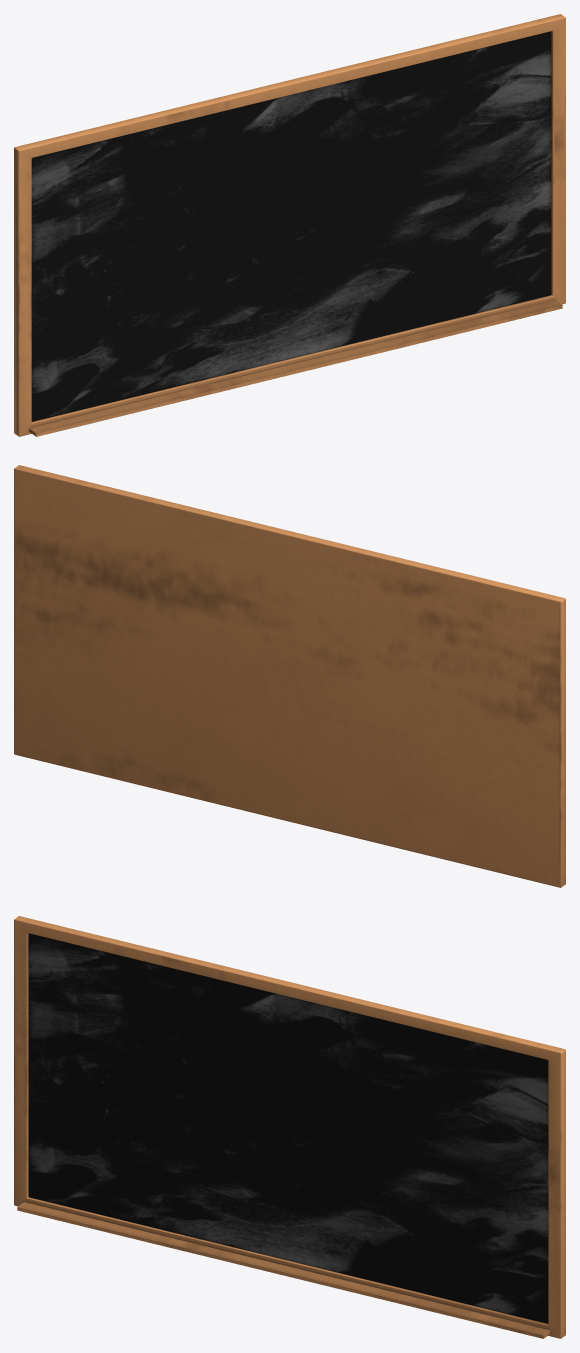
The model's file is Broken_Blackboard.fbx.
3 views of the same model, one above another, from view 1: azimuth 30°, elevation 25°; view 2: azimuth 150°, elevation 25°; view 3: azimuth 330°, elevation 25° (orthographic).
Parts seen in each view (by area): view 1: Blackboard_Broken, Blackboard_Broken.001, Blackboard_Broken.002, Blackboard_Broken.003, Blackboard_Broken.008, Blackboard_Broken.017, Blackboard_Broken.010, Blackboard_Broken.020, Blackboard_Broken.004, Blackboard_Broken.005, Blackboard_Broken.014, Blackboard_Broken.015 (+9 smaller); view 2: Blackboard_Broken; view 3: Blackboard_Broken, Blackboard_Broken.001, Blackboard_Broken.002, Blackboard_Broken.003, Blackboard_Broken.008, Blackboard_Broken.017, Blackboard_Broken.010, Blackboard_Broken.020, Blackboard_Broken.004, Blackboard_Broken.005, Blackboard_Broken.014, Blackboard_Broken.015 (+9 smaller).
Part boxes in pixels (bbox=[...]): Blackboard_Broken: bbox=[14, 14, 565, 436]; Blackboard_Broken.001: bbox=[297, 131, 458, 302]; Blackboard_Broken.002: bbox=[31, 174, 178, 367]; Blackboard_Broken.003: bbox=[159, 173, 316, 333]; Blackboard_Broken.008: bbox=[31, 320, 161, 421]; Blackboard_Broken.017: bbox=[457, 54, 551, 175]; Blackboard_Broken.010: bbox=[117, 174, 237, 298]; Blackboard_Broken.020: bbox=[114, 275, 243, 401]; Blackboard_Broken.004: bbox=[304, 234, 435, 355]; Blackboard_Broken.005: bbox=[436, 31, 551, 138]; Blackboard_Broken.014: bbox=[300, 82, 411, 237]; Blackboard_Broken.015: bbox=[343, 52, 465, 134]; Blackboard_Broken: bbox=[14, 465, 565, 887]; Blackboard_Broken: bbox=[14, 916, 565, 1338]; Blackboard_Broken.001: bbox=[295, 1091, 456, 1250]; Blackboard_Broken.002: bbox=[28, 1021, 175, 1190]; Blackboard_Broken.003: bbox=[157, 1066, 314, 1179]; Blackboard_Broken.008: bbox=[28, 1123, 158, 1217]; Blackboard_Broken.017: bbox=[455, 1083, 548, 1203]; Blackboard_Broken.010: bbox=[115, 1021, 235, 1136]; Blackboard_Broken.020: bbox=[112, 1154, 241, 1246]; Blackboard_Broken.004: bbox=[302, 1206, 433, 1295]; Blackboard_Broken.005: bbox=[434, 1039, 548, 1122]; Blackboard_Broken.014: bbox=[298, 1009, 408, 1144]; Blackboard_Broken.015: bbox=[341, 1009, 463, 1107].
Size of the model in its own units: 800 by 400 by 30.64.
